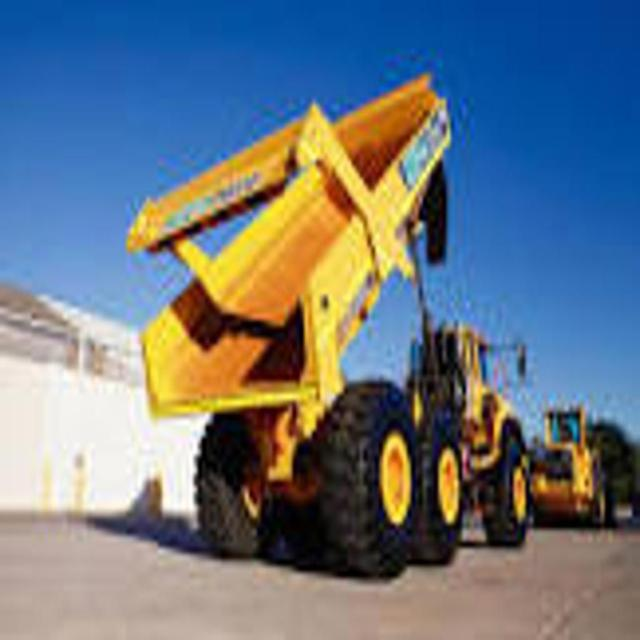dump_truck: (139, 57, 531, 572)
